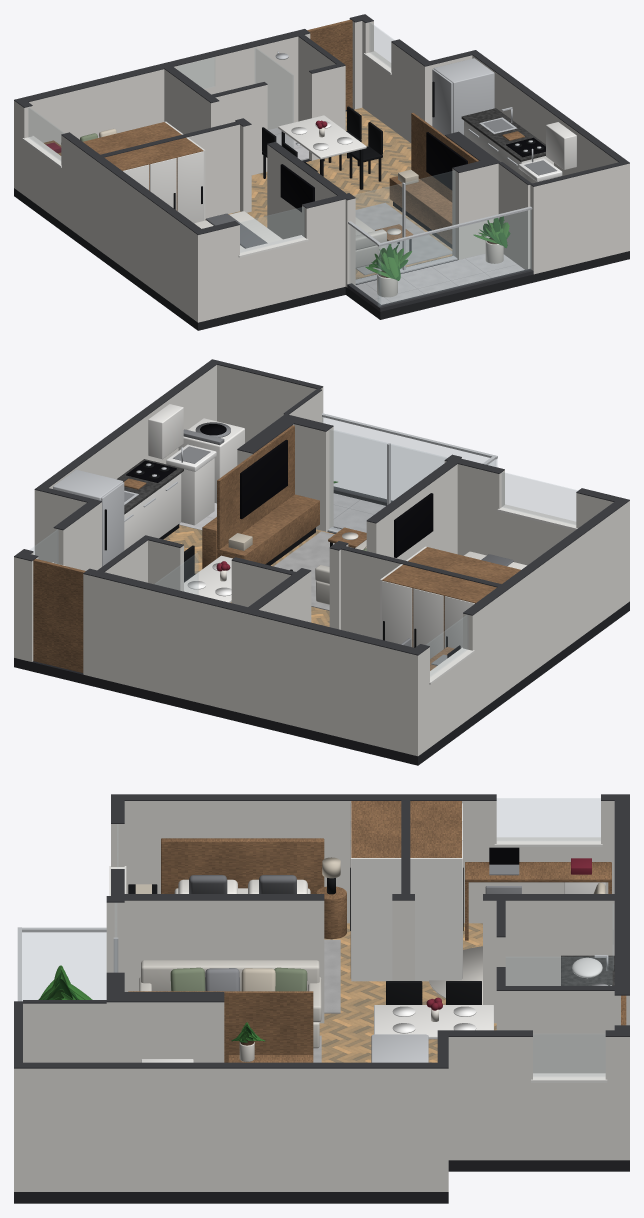
Rendered from apto.glb.
The picture shows the model from 3 angles, top to bottom: view 1: azimuth 30°, elevation 25°; view 2: azimuth 150°, elevation 25°; view 3: azimuth 270°, elevation 25°; orthographic projection. The views are drawn at different scales.
Visible parts, largest first — view 1: p_esq_b, p_topo_a, gc_frente, p_servico_fundo, porta_varanda_vidro, piso_sala, p_cozinha, jan_quarto2_peitoril, p_baixo_b, piso_varanda, pi_entre_quartos, p_baixo_a (+55 smaller); view 2: p_topo_a, p_esq_b, porta_varanda_vidro, gc_frente, laje_a, porta_entrada, p_cozinha, p_servico_fundo, p_baixo_b, pi_quartos_c, pi_entre_quartos, s_rack (+48 smaller); view 3: p_cozinha, p_esq_b, pi_quartos_c, p_dir_b, pi_quartos_a, pi_banho_dir, p_sala_servico, q2_cabeceira, q1_armario_lado, jan_hall_peitoril, q2_armario_lado, s_painel (+47 smaller).
Boxes of the visible parts, x1,y1,x2,y2 form: p_esq_b: [61, 135, 206, 322]; p_topo_a: [14, 33, 310, 190]; gc_frente: [378, 210, 531, 306]; p_servico_fundo: [530, 165, 622, 274]; porta_varanda_vidro: [353, 171, 454, 280]; piso_sala: [251, 138, 452, 279]; p_cozinha: [472, 55, 629, 252]; jan_quarto2_peitoril: [240, 241, 306, 312]; p_baixo_b: [302, 199, 345, 295]; piso_varanda: [355, 253, 524, 304]; pi_entre_quartos: [188, 124, 239, 219]; p_baixo_a: [206, 225, 239, 320]; p_topo_a: [83, 574, 423, 755]; p_esq_b: [463, 501, 629, 715]; porta_varanda_vidro: [329, 429, 446, 532]; gc_frente: [322, 417, 497, 501]; laje_a: [14, 531, 629, 765]; porta_entrada: [33, 559, 85, 672]; p_cozinha: [49, 365, 216, 488]; p_servico_fundo: [217, 365, 323, 443]; p_baixo_b: [457, 464, 504, 556]; pi_quartos_c: [366, 464, 457, 560]; pi_entre_quartos: [341, 549, 400, 639]; s_rack: [217, 494, 319, 564]; p_cozinha: [14, 1068, 437, 1191]; p_esq_b: [124, 801, 496, 923]; pi_quartos_c: [124, 900, 324, 1023]; p_dir_b: [448, 1037, 532, 1160]; pi_quartos_a: [483, 900, 614, 1023]; pi_banho_dir: [505, 991, 614, 1073]; p_sala_servico: [106, 1002, 224, 1062]; q2_cabeceira: [161, 838, 324, 893]; q1_armario_lado: [410, 858, 461, 981]; jan_hall_peitoril: [533, 1083, 605, 1160]; q2_armario_lado: [351, 858, 401, 981]; s_painel: [128, 991, 313, 1062].
Size of the model in its own units: 7.15 by 1.65 by 6.79.
27 materials, 6 textured.
